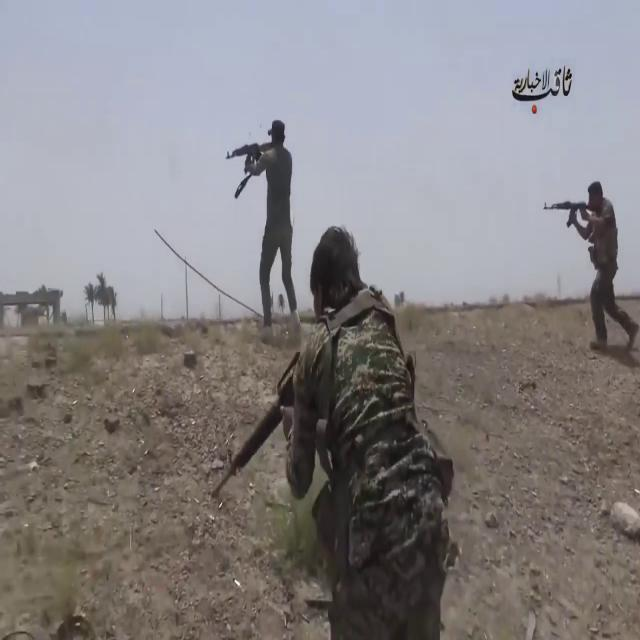long weapon: (204, 347, 318, 513), (218, 138, 276, 186), (536, 198, 592, 230)
